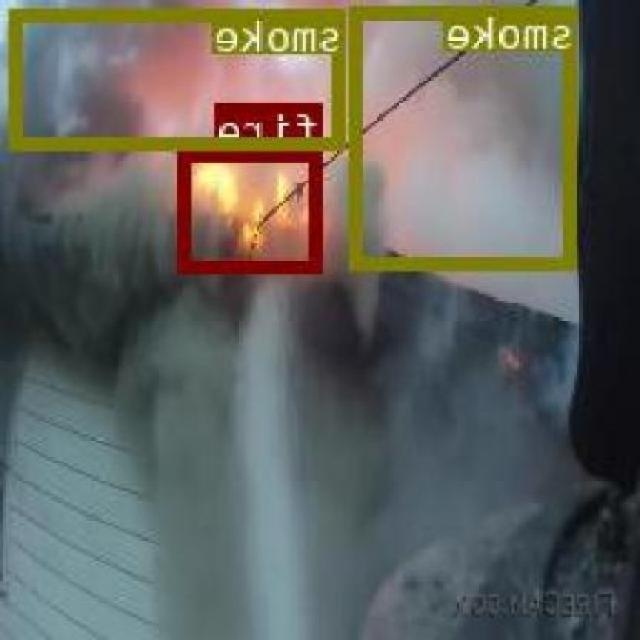Fire: (180, 146, 326, 269)
Smoke: (354, 4, 577, 267), (11, 8, 347, 146)
